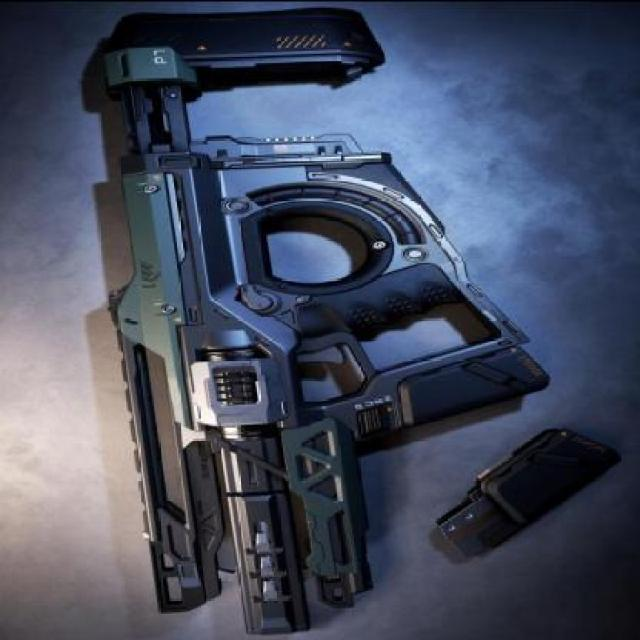weapon: (98, 5, 550, 636)
